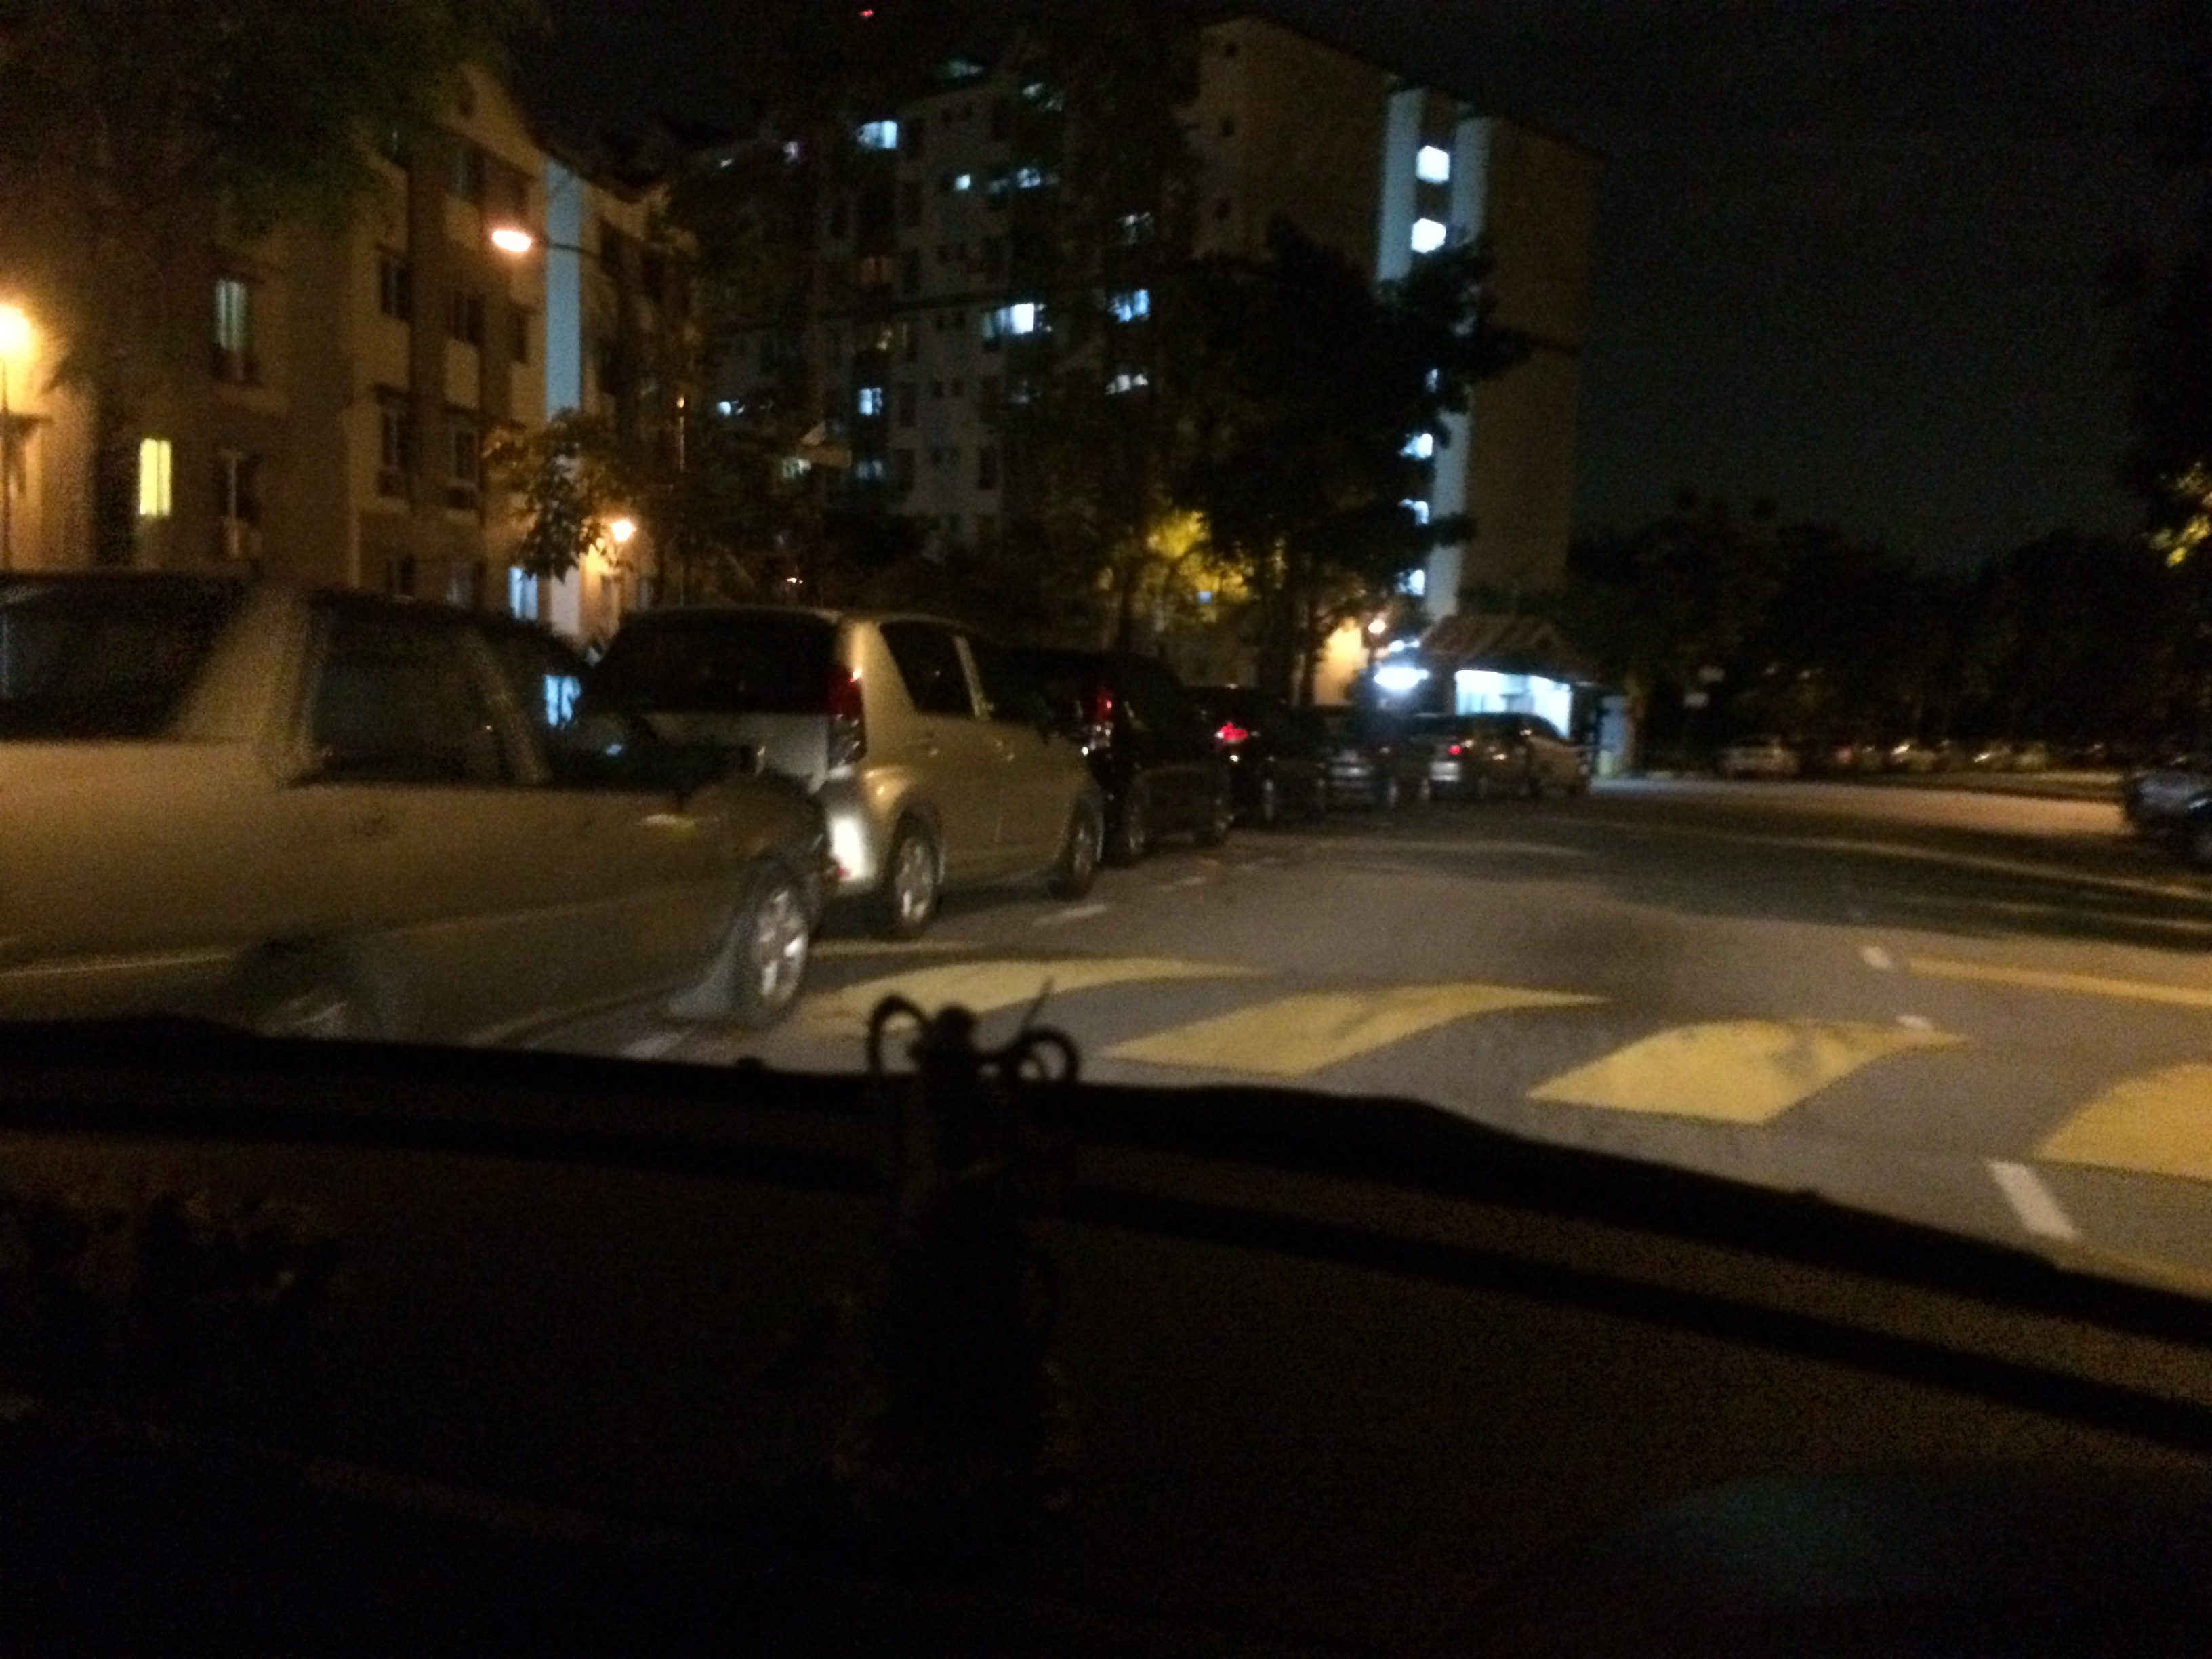car: (597, 593, 1122, 941)
